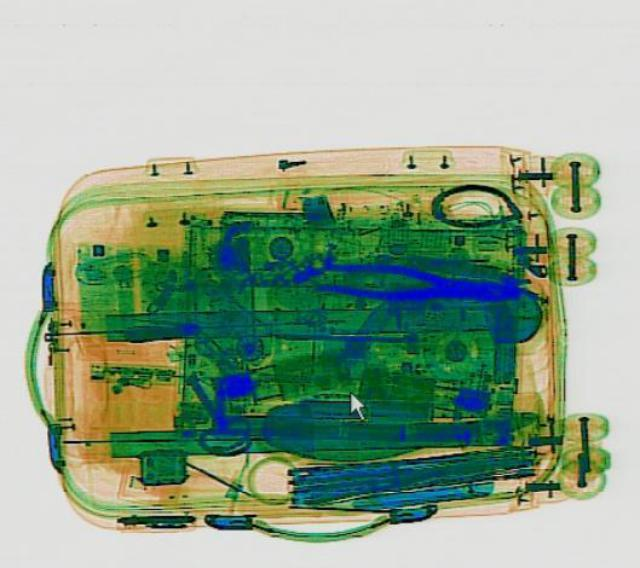Pliers: (317, 257, 517, 307)
